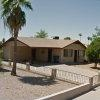Palm tree: (2, 1, 25, 91)
